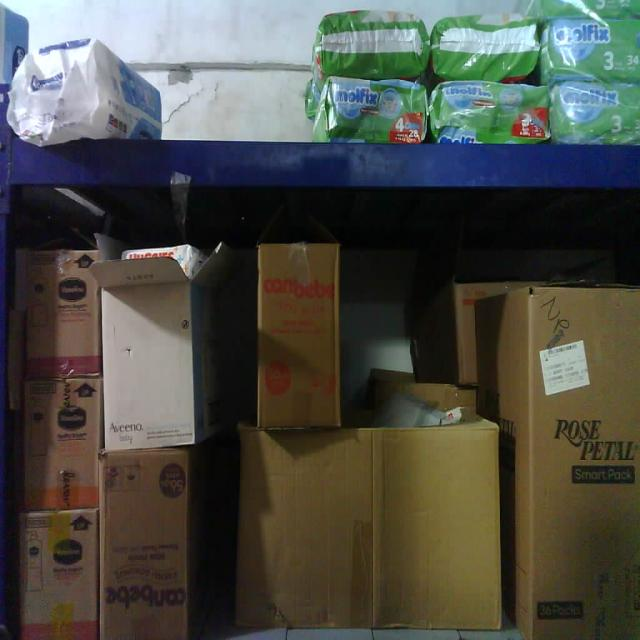box: (232, 425, 502, 632), (527, 286, 640, 640), (98, 447, 193, 640), (256, 241, 344, 425), (19, 508, 99, 640), (23, 375, 101, 508), (24, 249, 101, 378)
